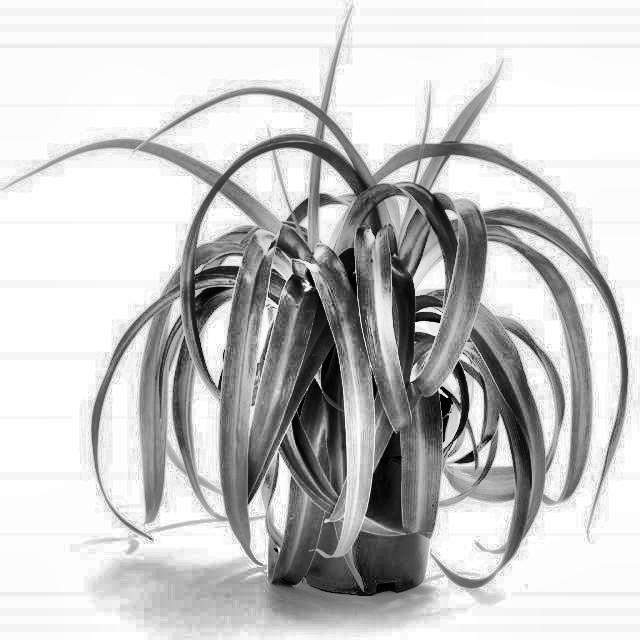plants: (82, 102, 614, 581)
